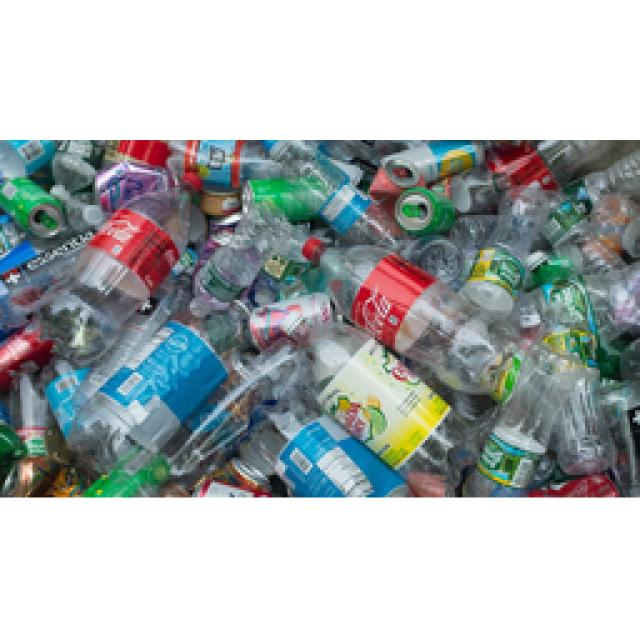aluminum_soda_cans: (382, 139, 480, 185), (1, 179, 64, 244), (242, 174, 327, 218), (392, 181, 454, 229)
plastic_soda_bottles: (319, 238, 517, 397), (34, 192, 189, 368)
plastic_water_bottles: (68, 298, 246, 466), (264, 138, 408, 252), (465, 350, 567, 497), (259, 397, 405, 497)
